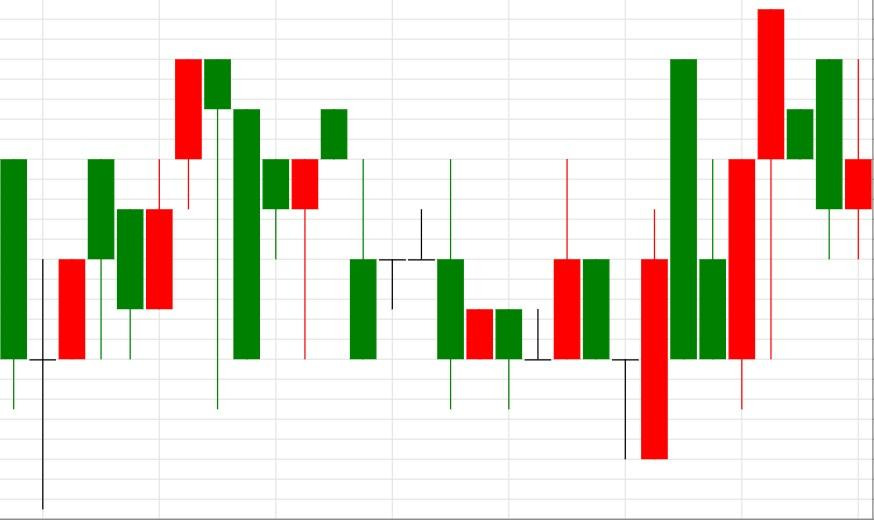hammer_rise: (204, 58, 319, 411)
hanging_man_fall: (116, 59, 231, 410)
